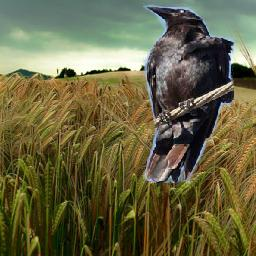Crow: (144, 3, 235, 183)
